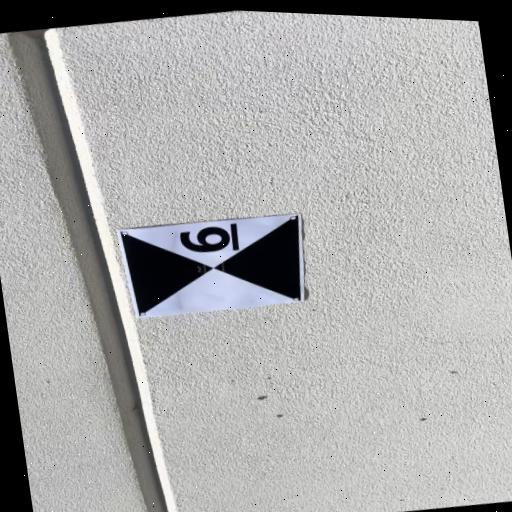target6: (112, 213, 305, 321)
